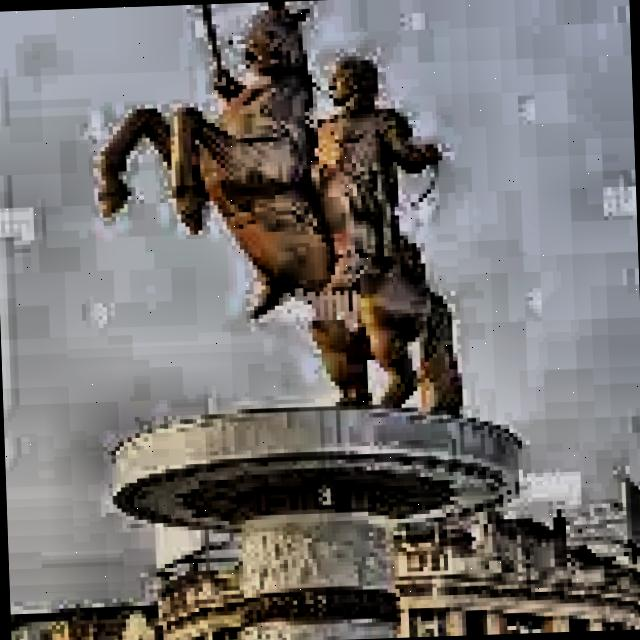alexander the great monument: (89, 0, 539, 640)
